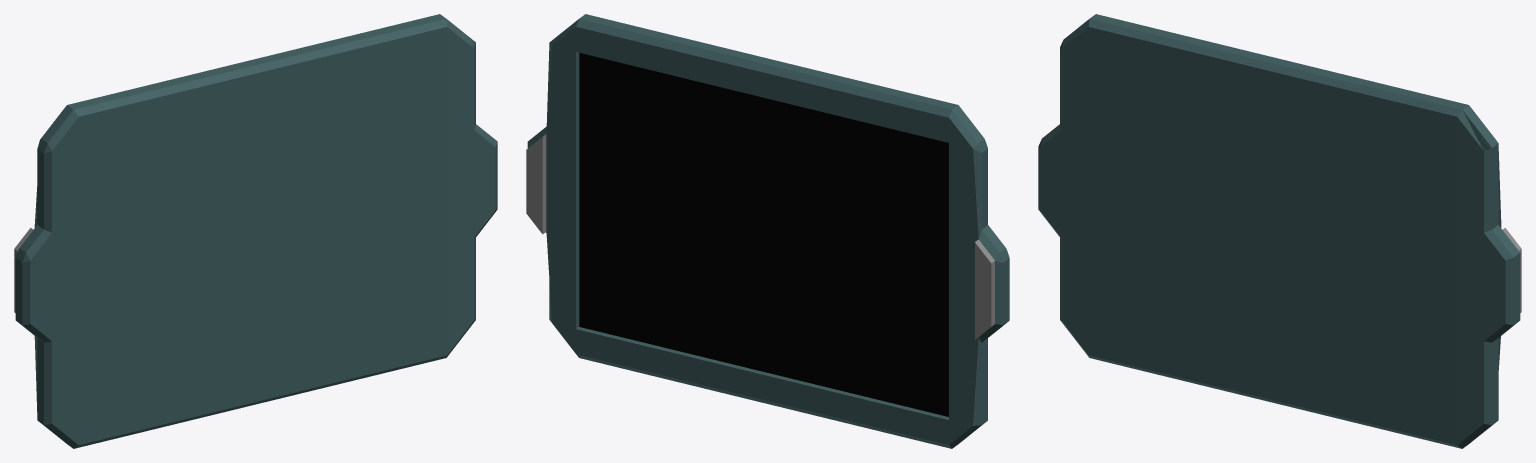
Rendered from Monitor.fbx.
3 renders of one model, left to right at view 1: azimuth 30°, elevation 25°; view 2: azimuth 150°, elevation 25°; view 3: azimuth 330°, elevation 25°, orthographic.
Parts seen in each view (by area): view 1: WallmountedTV; view 2: WallmountedTV; view 3: WallmountedTV.
Boxes of the visible parts, left/top/right/bottom form: WallmountedTV: left=14, top=14, right=497, bottom=448; WallmountedTV: left=526, top=14, right=1009, bottom=448; WallmountedTV: left=1038, top=14, right=1521, bottom=448.
Bounding box in the file's own units: 88 × 60 × 5.22.
